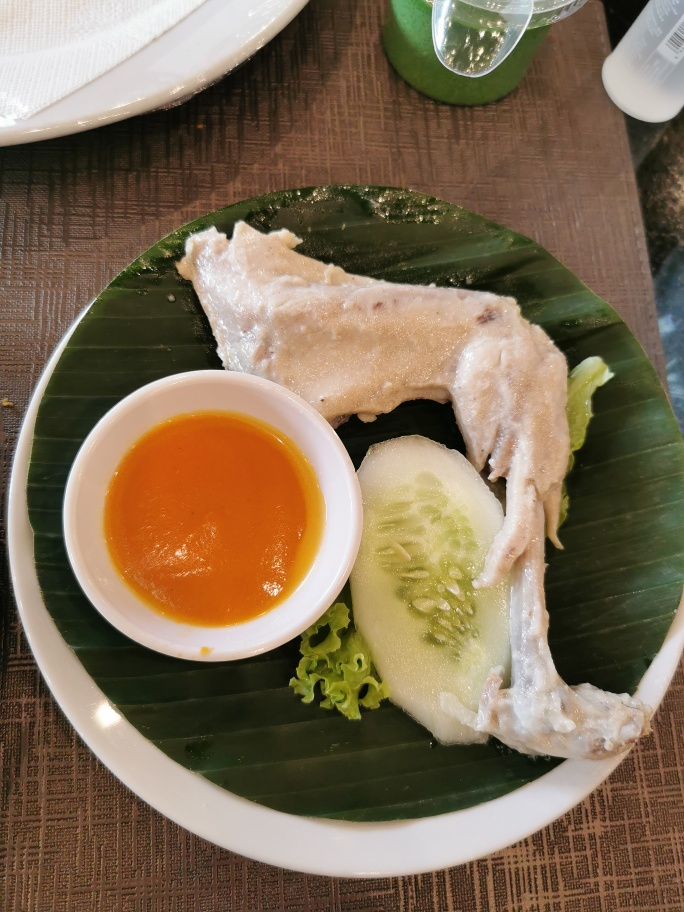ayam pop: (176, 225, 648, 768)
extra: (42, 362, 509, 747)
